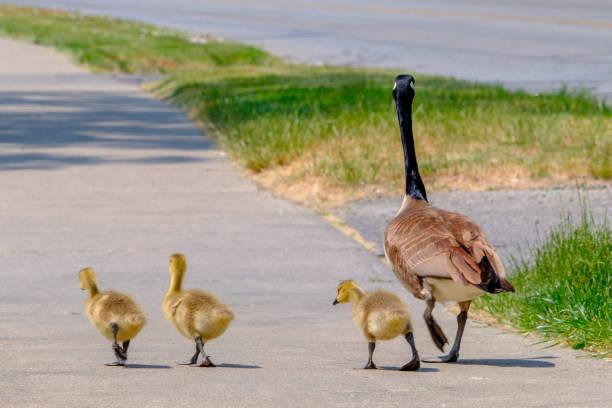Canadian-Goose: (384, 74, 521, 345), (71, 260, 152, 365), (336, 279, 423, 374), (161, 256, 235, 365)
